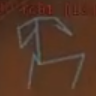hacks_2: (2, 5, 87, 89)
